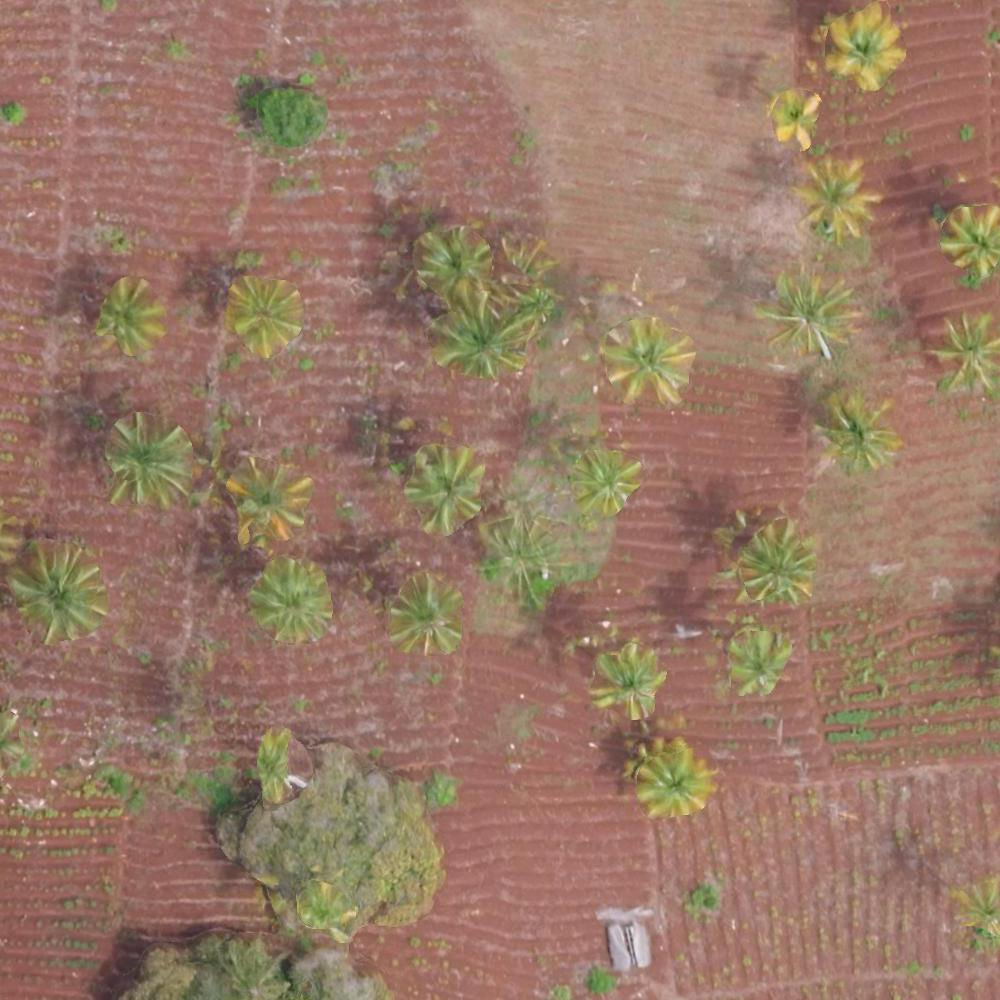Palm: (17, 547, 102, 640), (603, 319, 688, 404), (820, 6, 904, 89), (764, 275, 851, 354), (251, 561, 334, 641), (796, 159, 878, 235), (434, 310, 527, 376), (107, 422, 186, 499), (386, 578, 463, 654), (227, 460, 304, 535), (821, 401, 900, 472), (411, 448, 482, 523), (930, 316, 1000, 391), (738, 530, 813, 599), (224, 279, 299, 347), (631, 747, 707, 814), (96, 280, 163, 354), (592, 647, 661, 716), (419, 229, 487, 297), (942, 207, 1000, 278), (726, 632, 792, 693), (572, 450, 635, 510), (770, 89, 822, 147)
